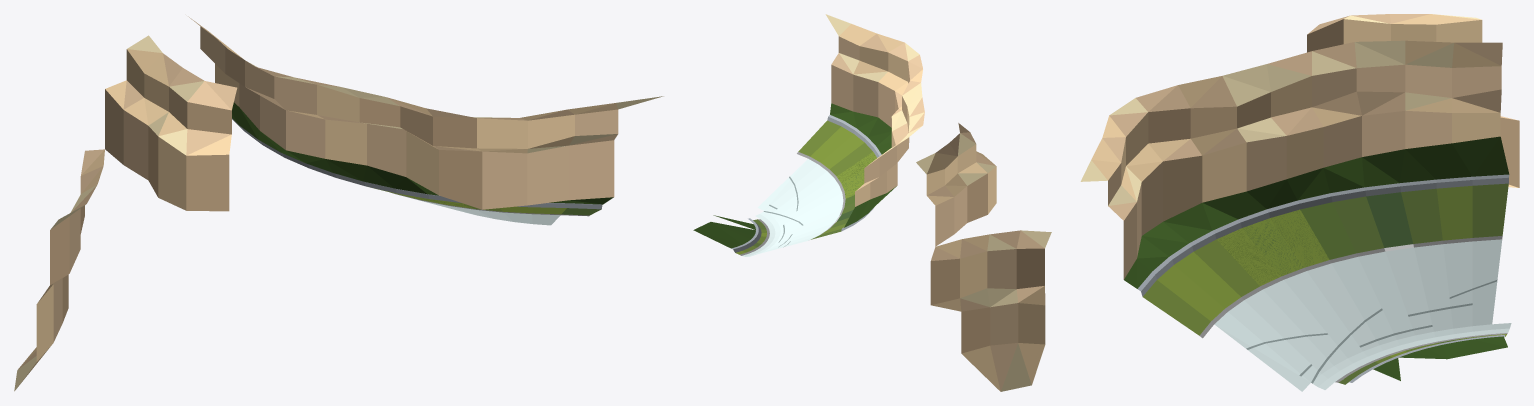
3 renders of one model, left to right at view 1: azimuth 30°, elevation 25°; view 2: azimuth 150°, elevation 25°; view 3: azimuth 270°, elevation 25°, orthographic. The views are drawn at different scales.
Visible parts, largest first — view 1: O28A79; view 2: O28A79; view 3: O28A79.
Part boxes in pixels (x1=…): O28A79: x1=14, y1=16, x2=663, y2=391; O28A79: x1=693, y1=14, x2=1051, y2=391; O28A79: x1=1080, y1=14, x2=1519, y2=391.
Size of the model in its own units: 138 by 82 by 103.
